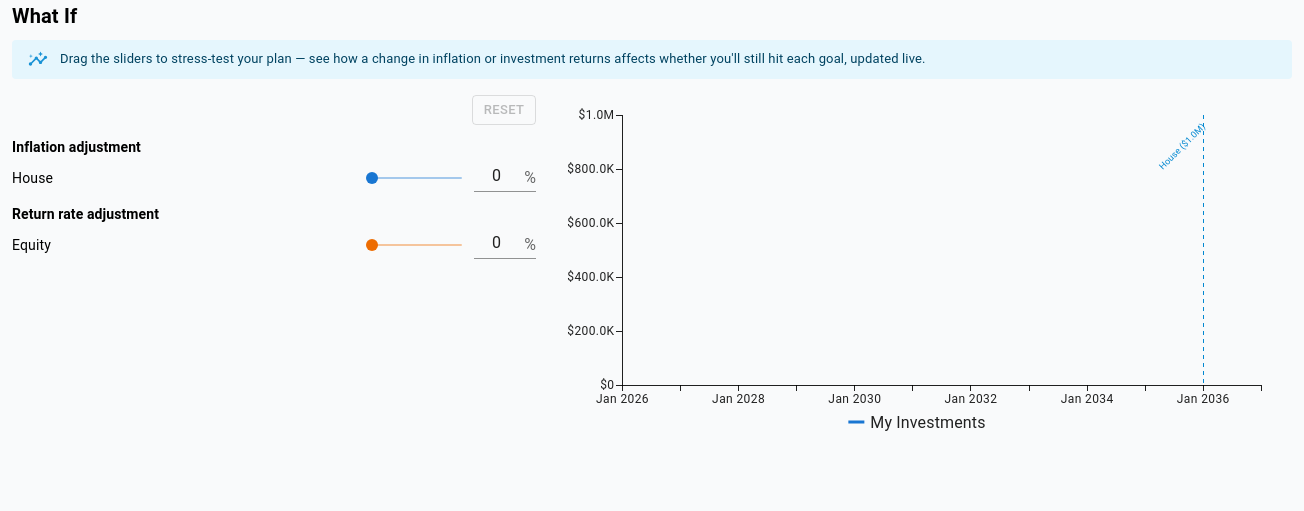
Scenario: WhatIf › shows a shortfall warning under the graph and enables Reset when the inflation slider moves
Set the slider named "House inflation rate" to "20" at (372, 178), box x1=366 y1=172 x2=378 y2=184
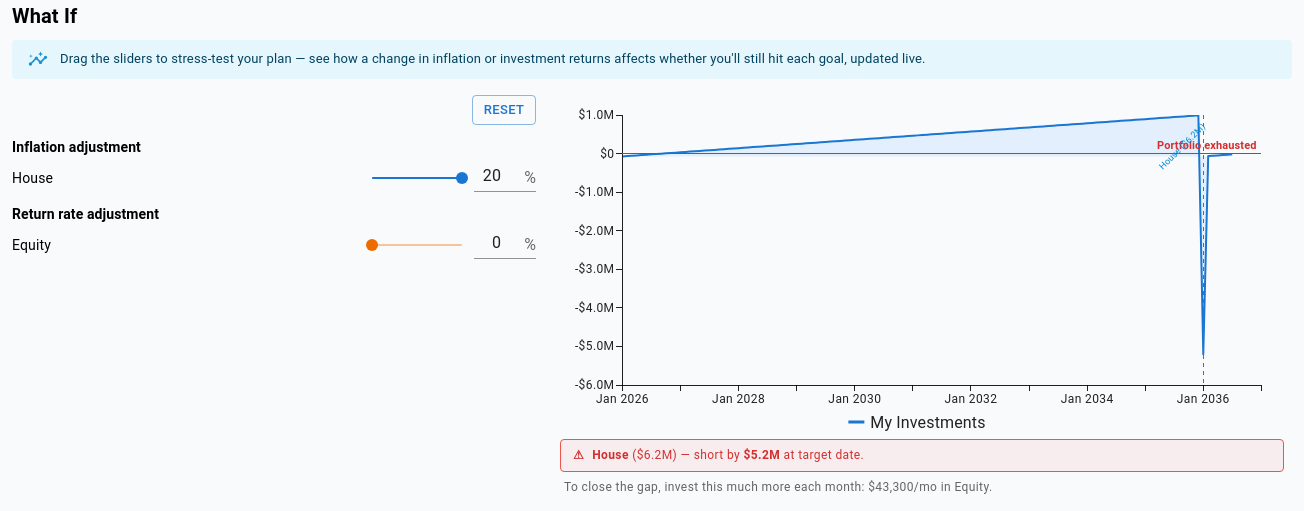
Result: the text "House ($6.2M) — short by $5.2M at target date." is shown at x1=592 y1=446 x2=864 y2=466
Result: the button "Reset" is enabled at x1=472 y1=95 x2=536 y2=125
